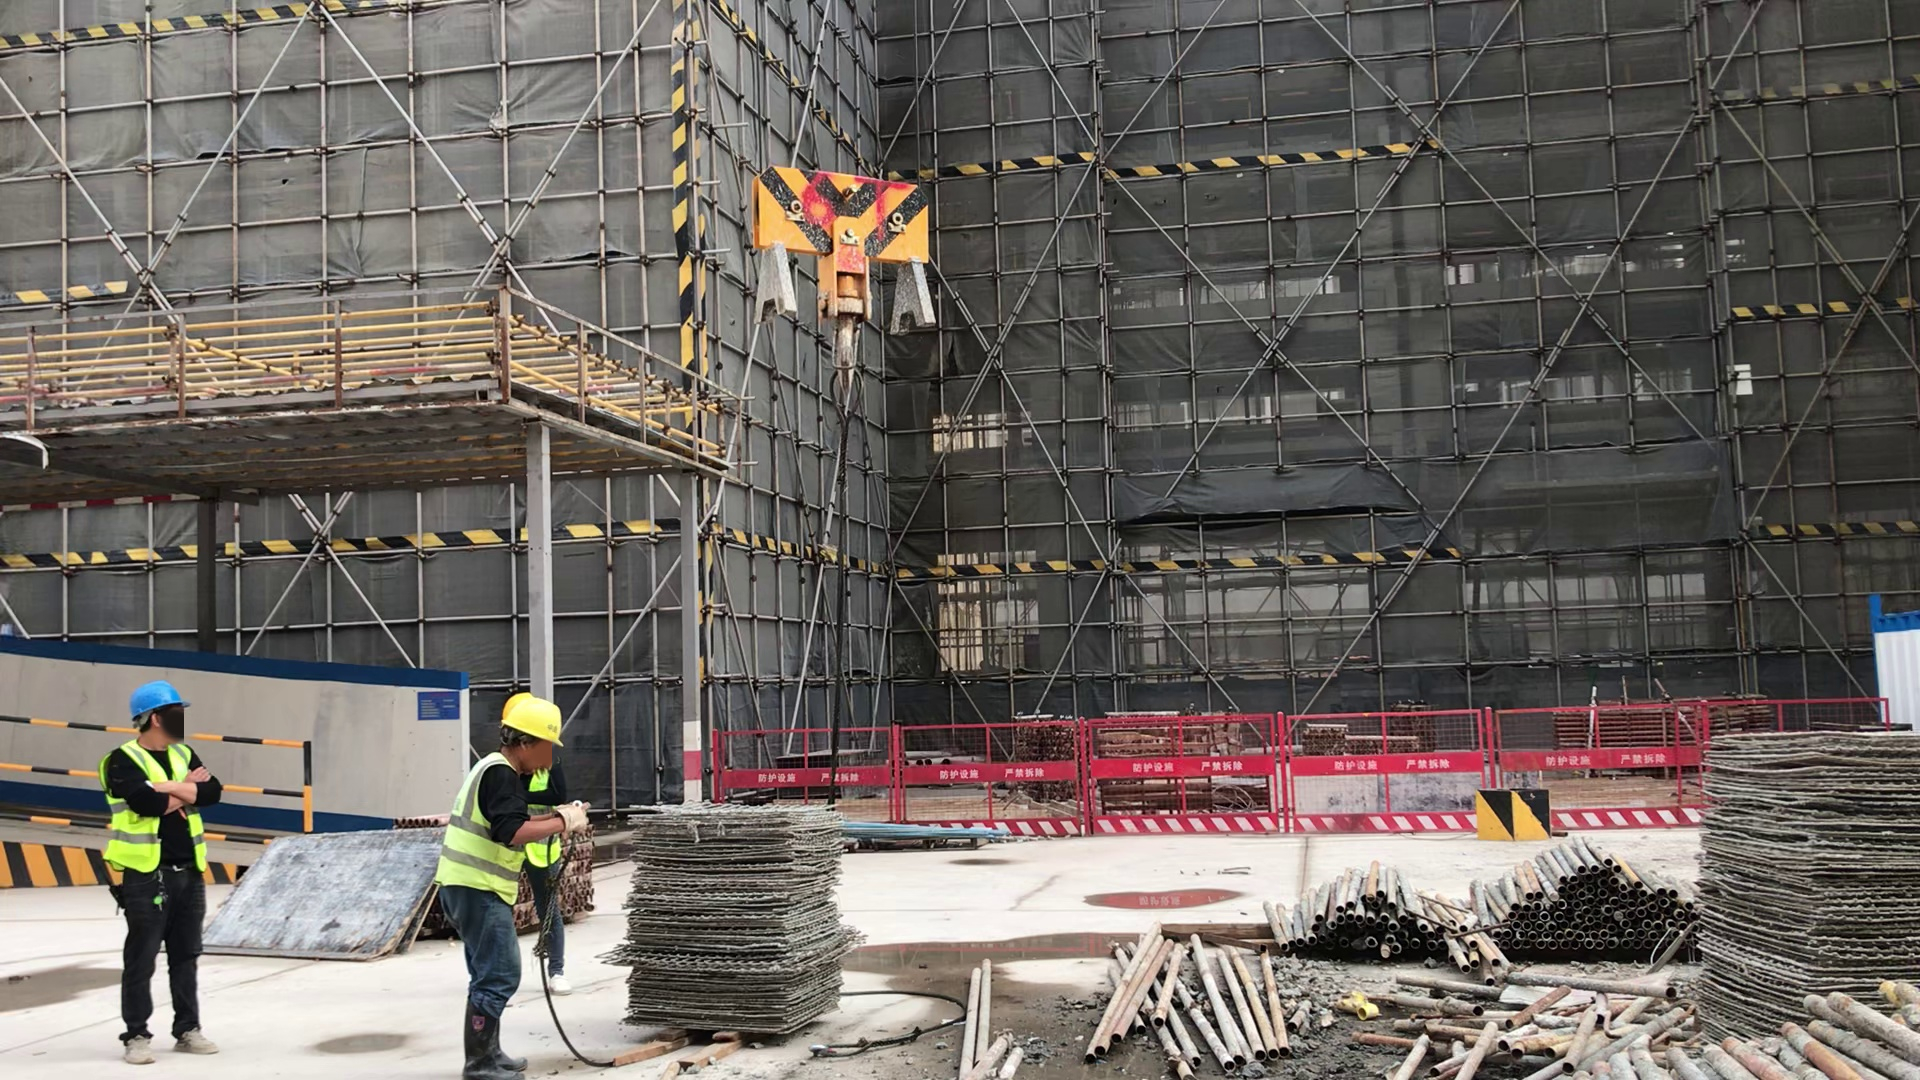fence: (1010, 712, 1470, 845), (1558, 698, 1692, 830), (850, 713, 997, 798), (3, 700, 89, 835), (703, 723, 830, 791)
helmet: (496, 701, 566, 746), (128, 685, 191, 717)
hook: (748, 163, 947, 389)
person: (425, 697, 582, 1080), (103, 682, 230, 1068)
scaffold: (1567, 972, 1911, 1080), (1484, 834, 1699, 967), (1255, 868, 1451, 963)
vest: (106, 741, 210, 880), (436, 754, 528, 908)
